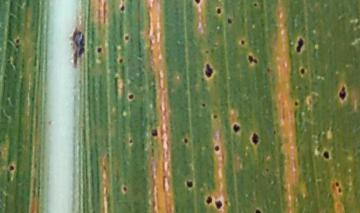tarspot: (69, 28, 86, 67), (250, 131, 262, 147), (204, 62, 214, 79), (295, 37, 305, 54), (338, 84, 347, 102), (247, 54, 259, 65), (184, 179, 195, 188), (232, 123, 241, 133), (204, 195, 213, 205), (214, 200, 223, 209), (299, 66, 306, 77), (119, 4, 126, 13), (226, 16, 233, 25), (323, 150, 330, 159), (151, 129, 158, 137), (127, 93, 135, 100), (96, 46, 103, 54), (213, 145, 221, 152), (117, 57, 124, 64), (123, 34, 130, 41), (293, 100, 300, 107), (272, 129, 279, 136), (254, 208, 263, 213), (8, 165, 15, 171), (14, 37, 20, 44), (216, 8, 222, 15), (253, 2, 260, 8), (240, 39, 246, 46), (183, 137, 189, 144), (122, 186, 128, 192), (212, 113, 218, 119), (200, 103, 207, 108), (128, 138, 133, 144), (264, 167, 270, 172), (335, 181, 340, 187), (194, 1, 201, 5), (338, 187, 342, 193), (204, 50, 209, 54)
